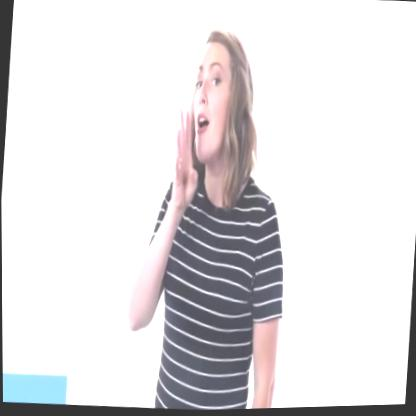Talk: (153, 2, 274, 246)
